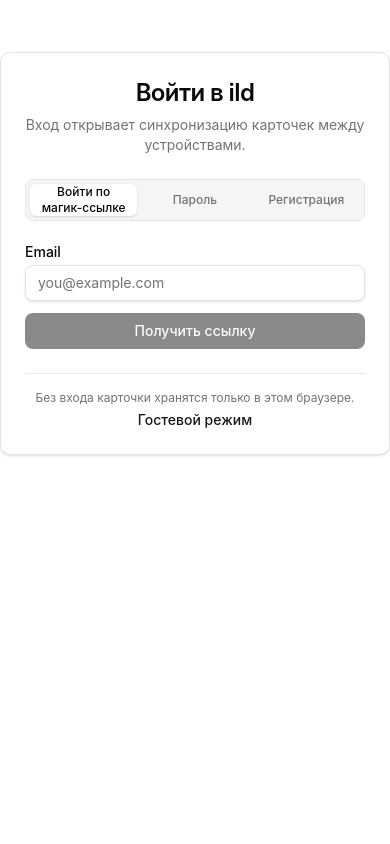
Test case: LoginPage › register fail email_taken (409): shows "email уже занят"
Step 1. Click the tab "Регистрация" → (306, 200), box [253,184,360,216]
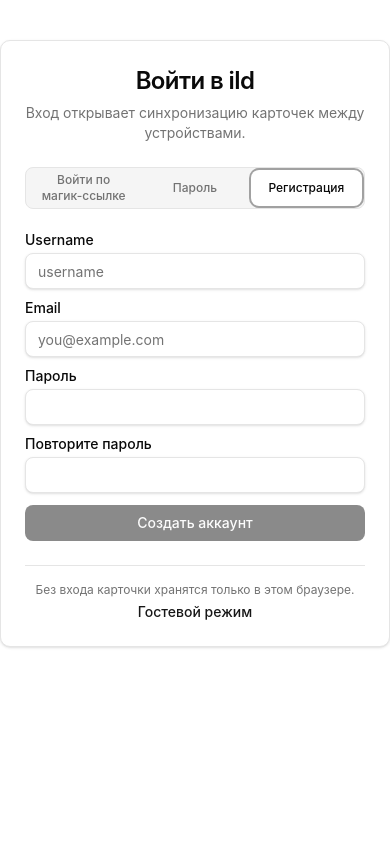
Step 2. Type "good_user" into the field labelled "Username" → (195, 271), box [25,253,365,289]
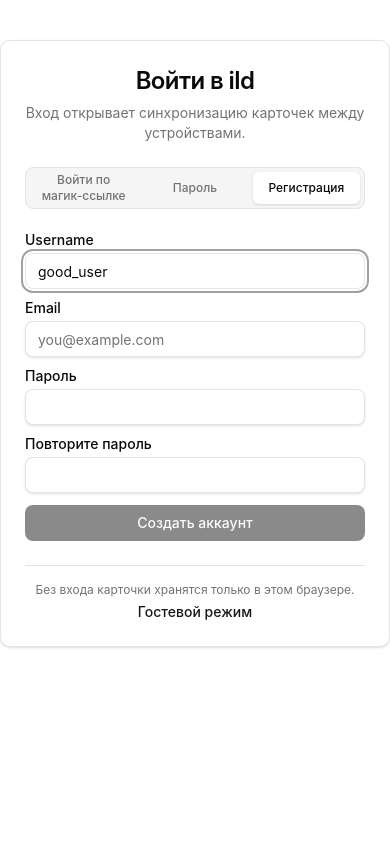
Step 3. Type "taken@example.com" into the field labelled "Email" → (195, 339), box [25,321,365,357]
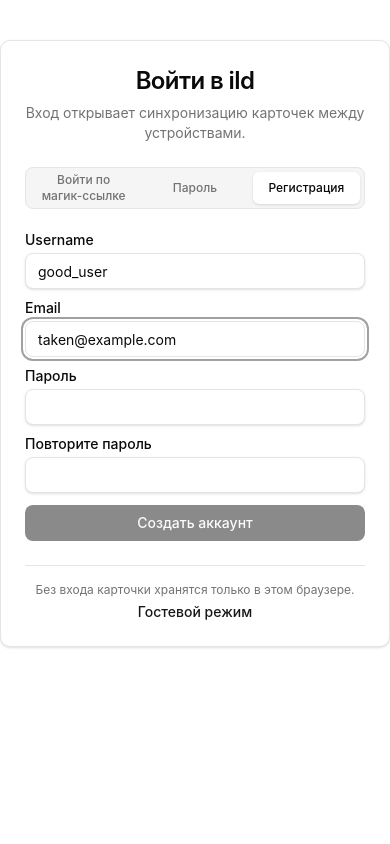
Step 4. Type "longenough" into the password field labelled "Пароль" → (195, 407), box [25,389,365,425]
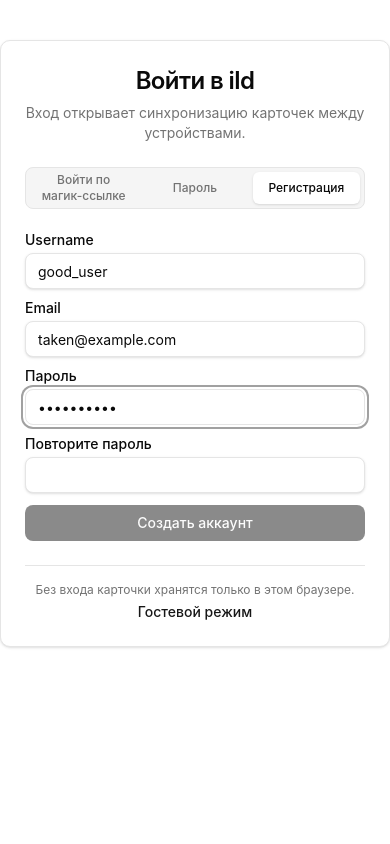
Step 5. Type "longenough" into the password field labelled "Повторите пароль" → (195, 475), box [25,457,365,493]
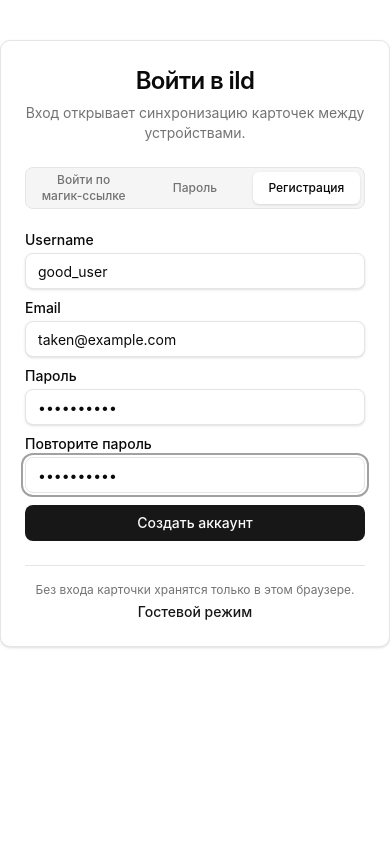
Step 6. Click the button "Создать аккаунт" → (195, 523), box [25,505,365,541]
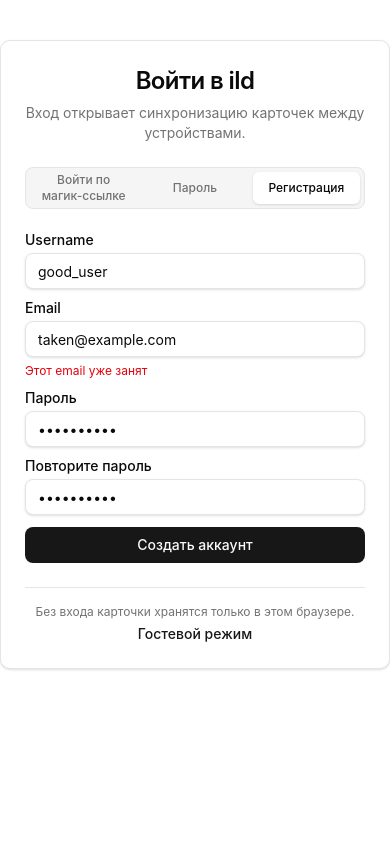
Expected: the text "Этот email уже занят" is shown, [25,363,147,378]
